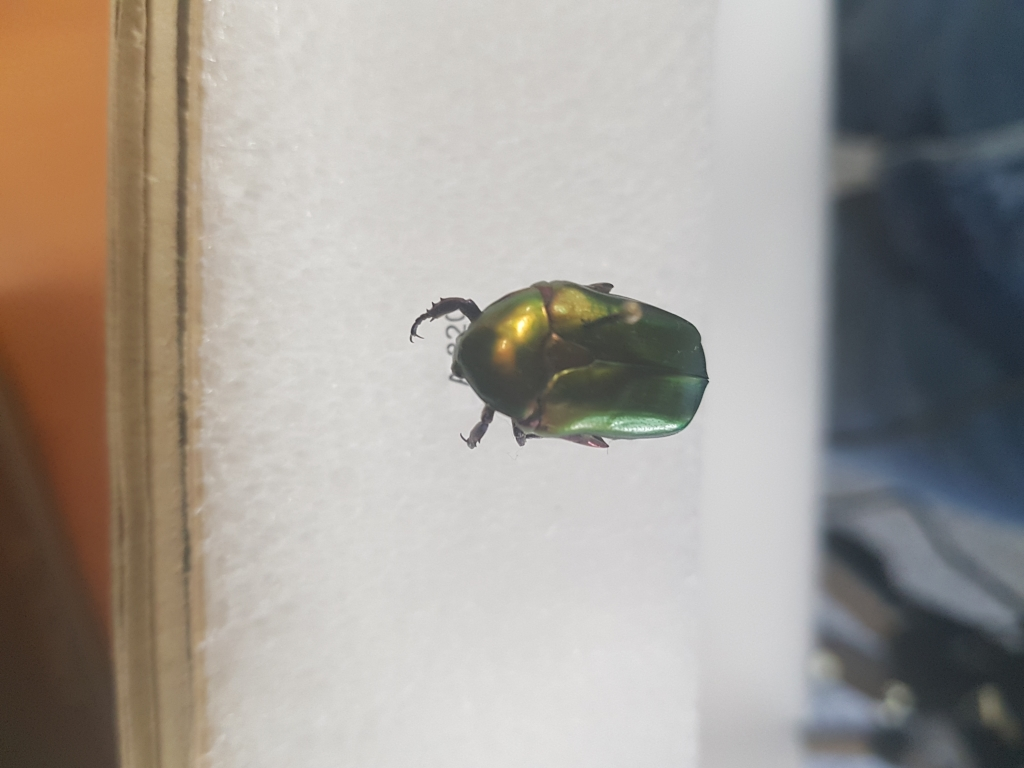Protaetia_cuprea_ignicollis: (399, 279, 739, 455)
